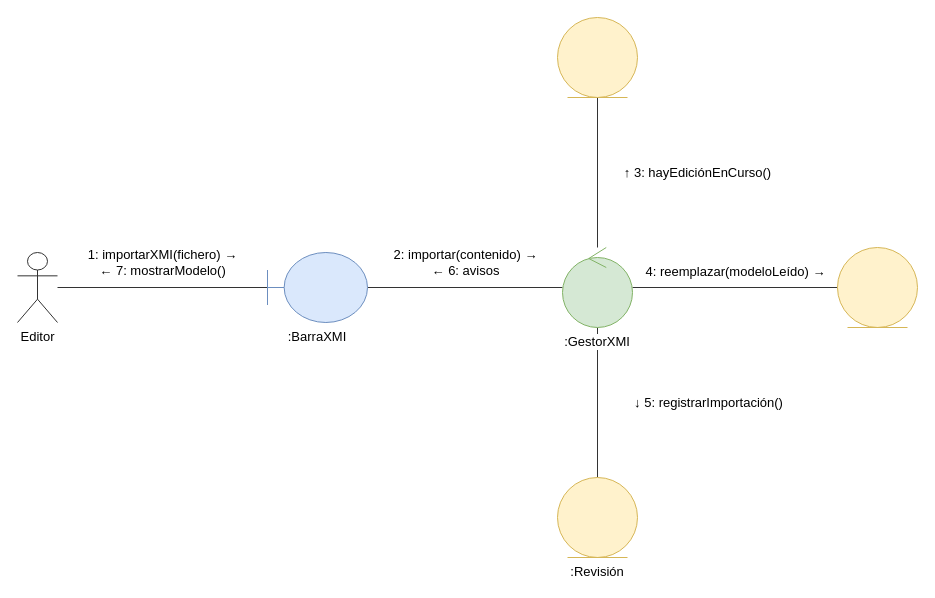
This 935x598 diagram has some shape labels left out. The shapes that lost their labels are listed below. From the top down, each one's box as (x1, y1, x2, y2) in pixels, then its label:
(556, 16, 638, 98): :PresenciaEquipo
(836, 246, 918, 328): :ModeloUML
